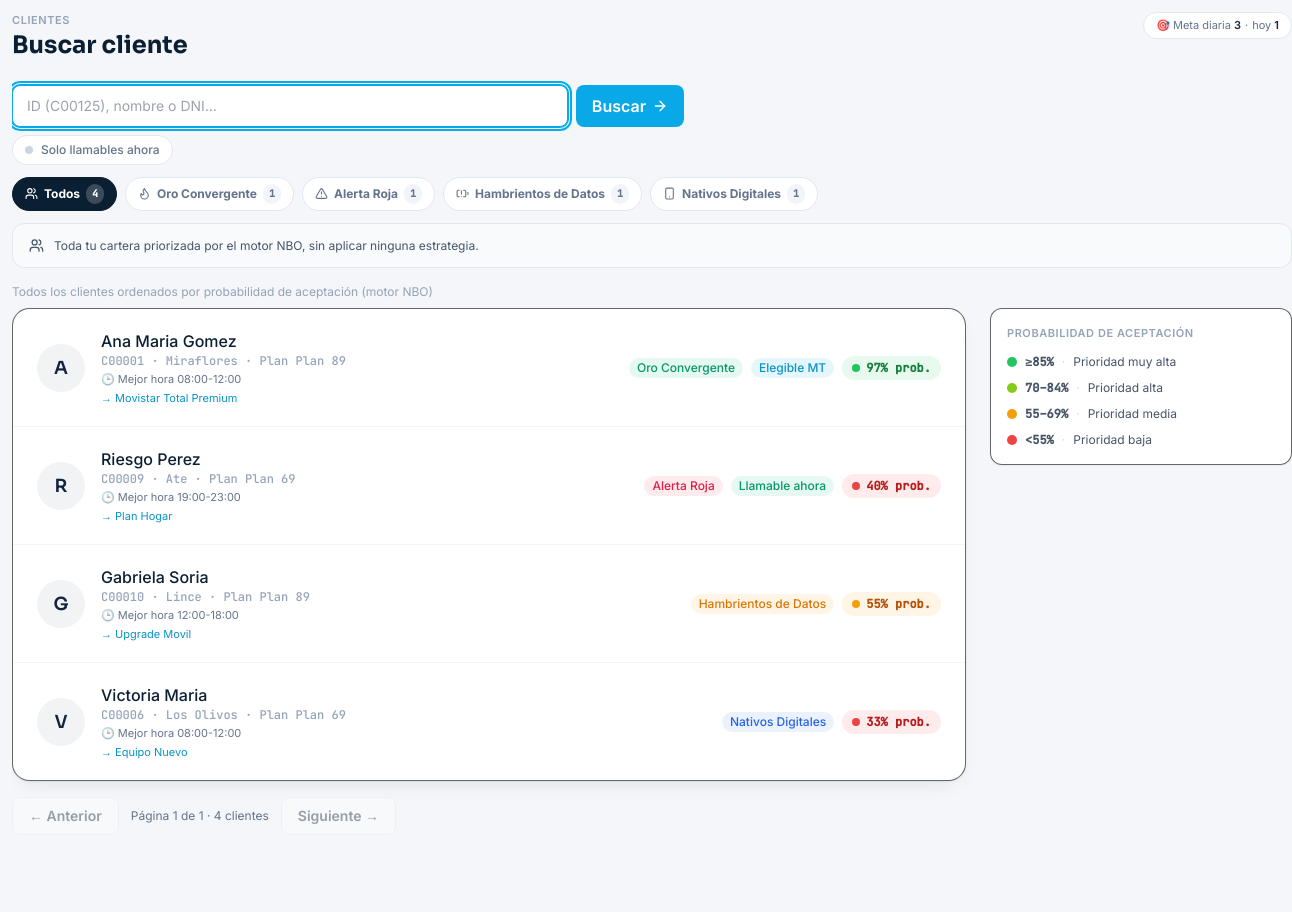
Test: ClientSearch › filtra por segmento en el servidor al hacer click en el chip
The width and height of the screenshot is (1292, 912).
Expected: the text "Ana Maria Gomez" is shown, [101,331,237,351]
Click the button "Alerta Roja 1" at (369, 194), box [302,176,435,210]
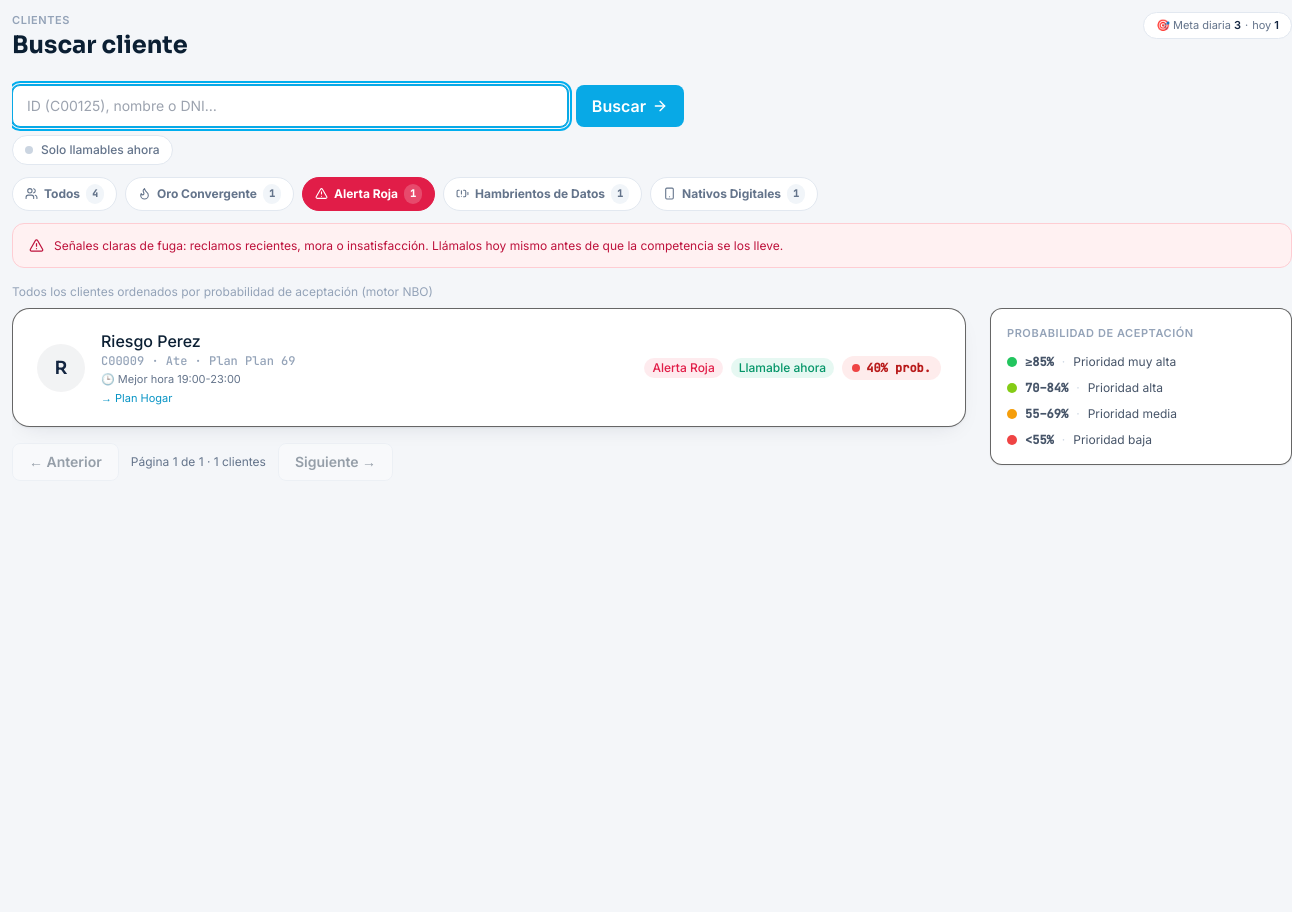
Expected: the text "Riesgo Perez" is shown, [101,331,201,351]
Now the button "Ana Maria Gomez" is gone
